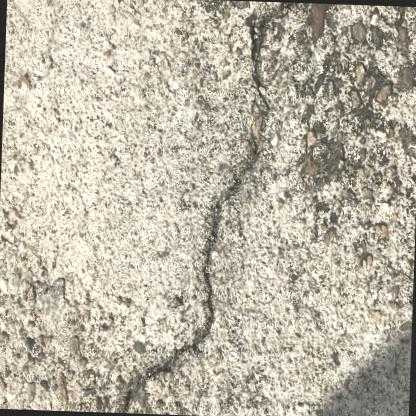crack: (122, 2, 285, 413)
